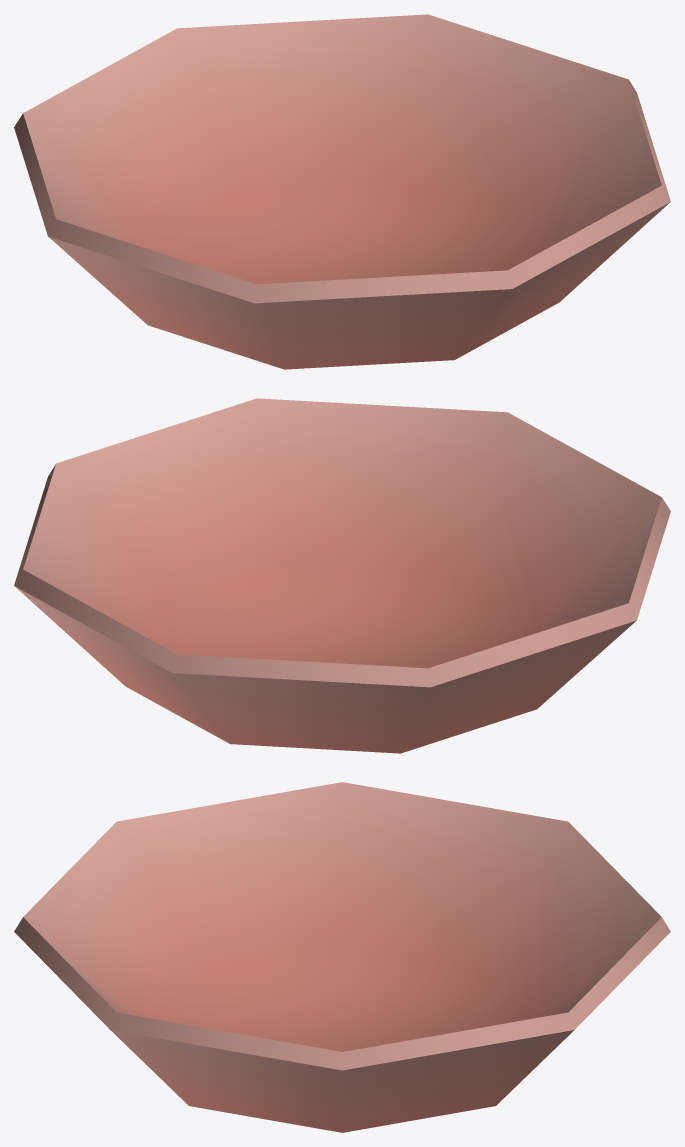
The model's file is Dish9.fbx.
3 renders of one model, top to bottom at view 1: azimuth 30°, elevation 25°; view 2: azimuth 150°, elevation 25°; view 3: azimuth 270°, elevation 25°, orthographic. The views are drawn at different scales.
Visible parts, largest first — view 1: Dish9; view 2: Dish9; view 3: Dish9.
Part boxes in pixels (bbox=[...]): Dish9: bbox=[14, 14, 670, 369]; Dish9: bbox=[14, 398, 670, 753]; Dish9: bbox=[14, 782, 670, 1132].
Bounding box in the file's own units: 75.68 × 15.78 × 75.68.
